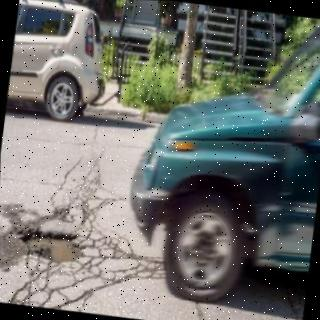pothole: (20, 230, 83, 264)
